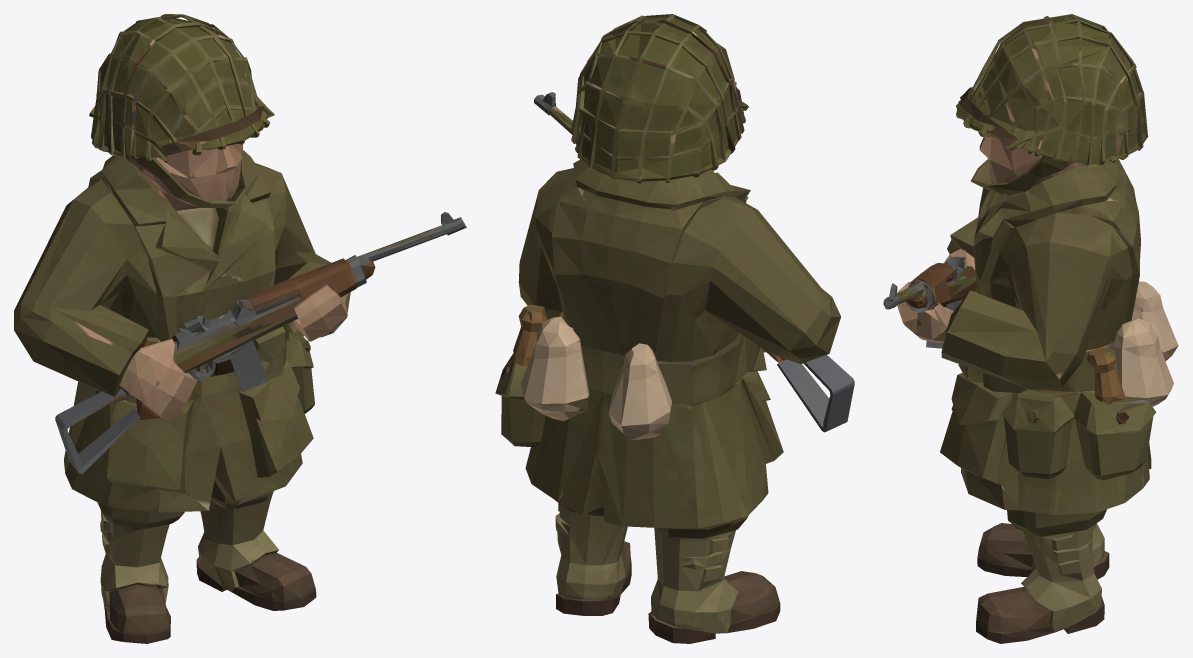
Rendered from sicily_us_airborne_0.glb.
3 views of the same model, side by side, from view 1: azimuth 30°, elevation 25°; view 2: azimuth 150°, elevation 25°; view 3: azimuth 270°, elevation 25° (orthographic). The views are drawn at different scales.
Visible parts, largest first — view 1: geometry_0; view 2: geometry_0; view 3: geometry_0.
Boxes of the visible parts, left/top/right/bottom form: geometry_0: left=14, top=14, right=466, bottom=643; geometry_0: left=495, top=14, right=854, bottom=643; geometry_0: left=883, top=14, right=1178, bottom=643.
Size of the model in its own units: 0.2143 by 0.324 by 0.1521.
Materials: 1 (1 with a texture image).
